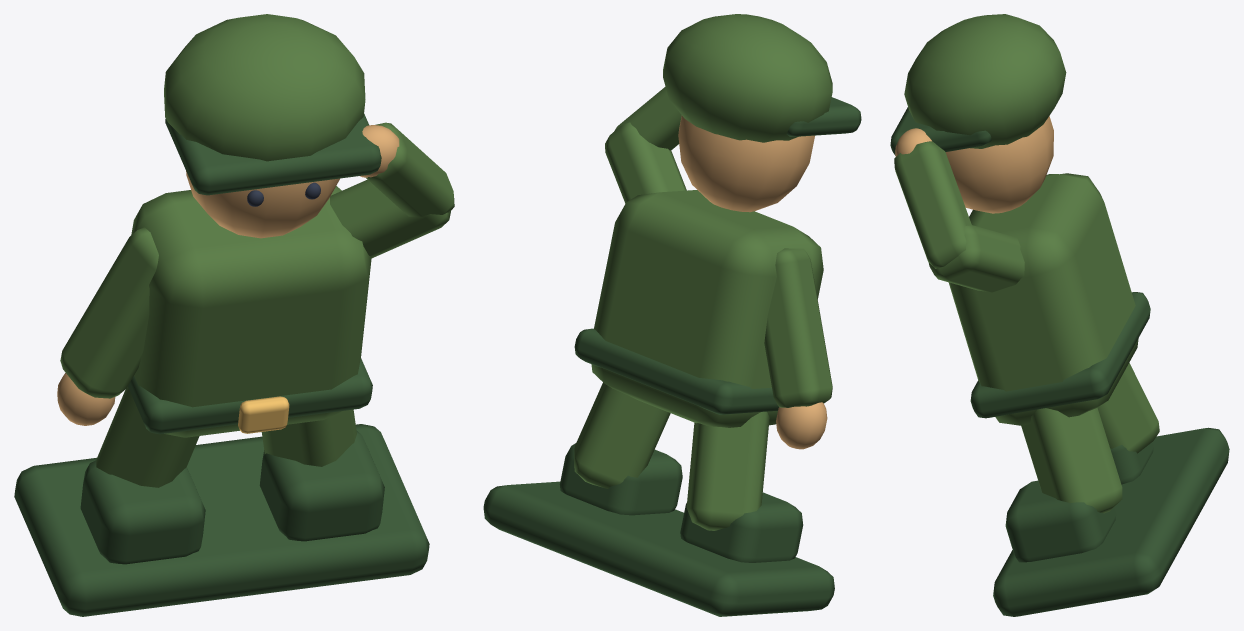
The model's file is soldier.glb.
3 views of the same model, side by side, from view 1: azimuth 30°, elevation 25°; view 2: azimuth 150°, elevation 25°; view 3: azimuth 270°, elevation 25° (orthographic). The views are drawn at different scales.
Parts seen in each view (by area): view 1: soldier; view 2: soldier; view 3: soldier.
Boxes of the visible parts, x1,y1,x2,y2 form: soldier: (14,14,454,616); soldier: (483,14,861,616); soldier: (890,14,1229,616).
Bounding box in the file's own units: 0.5679 × 0.9041 × 0.531.
